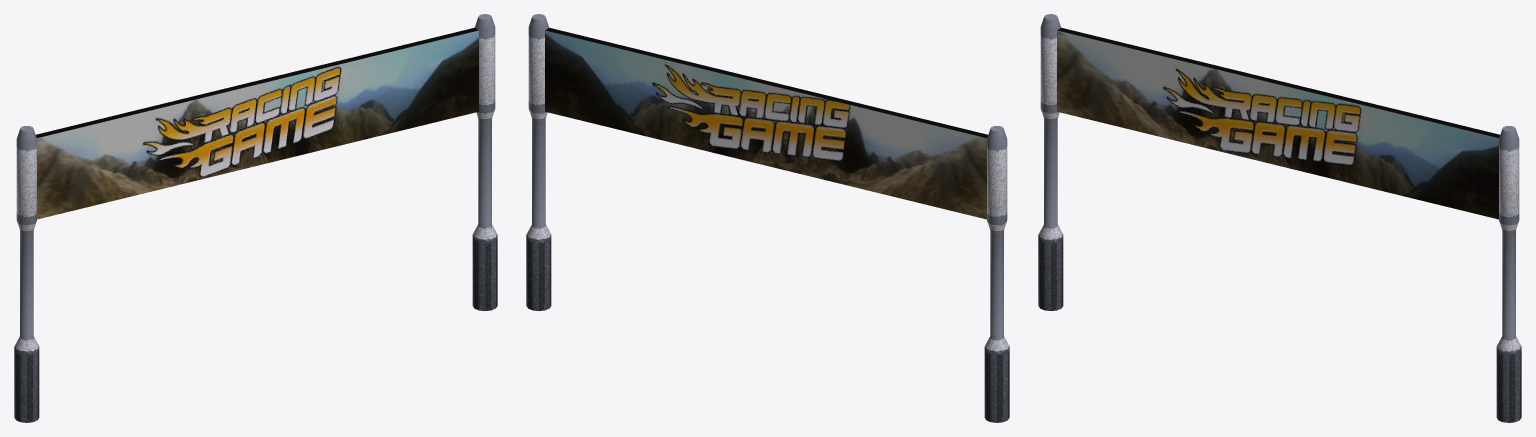
File: Banner3.gltf
3 renders of one model, left to right at view 1: azimuth 30°, elevation 25°; view 2: azimuth 150°, elevation 25°; view 3: azimuth 330°, elevation 25°, orthographic.
Visible parts, largest first — view 1: banner; view 2: banner; view 3: banner.
Part boxes in pixels (x1,y1,x2,y2): banner: (14,14,497,422); banner: (526,14,1009,422); banner: (1038,14,1521,422).
Bounding box in the file's own units: 10.8 × 6.22 × 0.484.
1 material, 1 textured.
